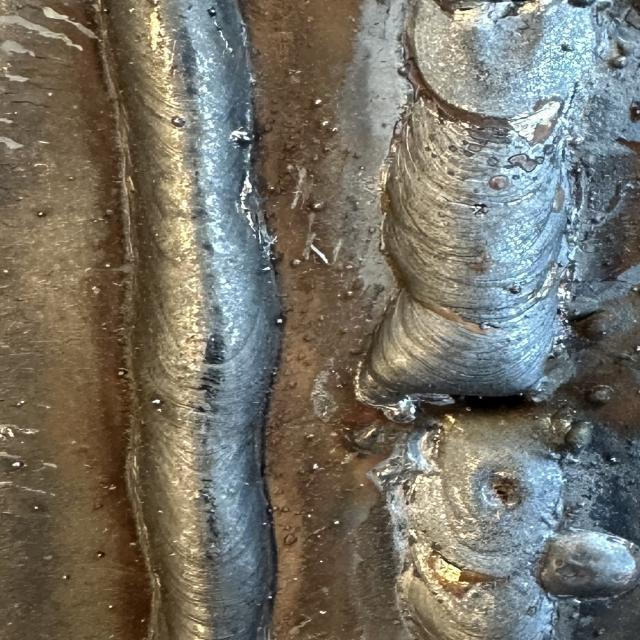Excess Reinforcement: (385, 0, 593, 334), (355, 311, 433, 422), (538, 530, 638, 597), (367, 425, 442, 491)
Spatters: (565, 421, 593, 451), (585, 385, 615, 406), (228, 126, 255, 148), (615, 35, 638, 56), (608, 55, 627, 69), (397, 61, 412, 78), (322, 120, 340, 134), (170, 116, 187, 128), (283, 534, 297, 545), (0, 428, 15, 438), (560, 42, 575, 52), (312, 202, 325, 211), (207, 6, 217, 16), (117, 368, 128, 376), (35, 211, 45, 218), (12, 461, 22, 468), (292, 259, 302, 266), (312, 464, 322, 470), (15, 400, 25, 406), (313, 99, 323, 105), (305, 434, 315, 440), (97, 551, 105, 558), (152, 399, 162, 404), (262, 266, 272, 271), (33, 505, 40, 511), (277, 318, 285, 323), (318, 610, 327, 614), (62, 575, 69, 580), (635, 345, 639, 353), (333, 520, 340, 524), (102, 8, 108, 12), (47, 92, 52, 96), (347, 291, 352, 295), (108, 605, 113, 609)
